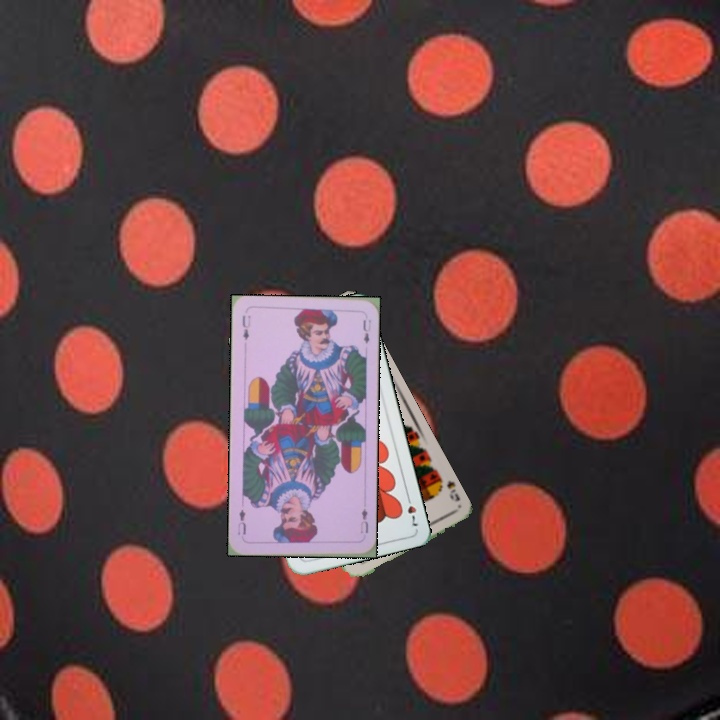EU: (238, 311, 253, 343), (357, 504, 371, 536)
H7: (403, 490, 420, 529)
S9: (433, 472, 462, 504)
